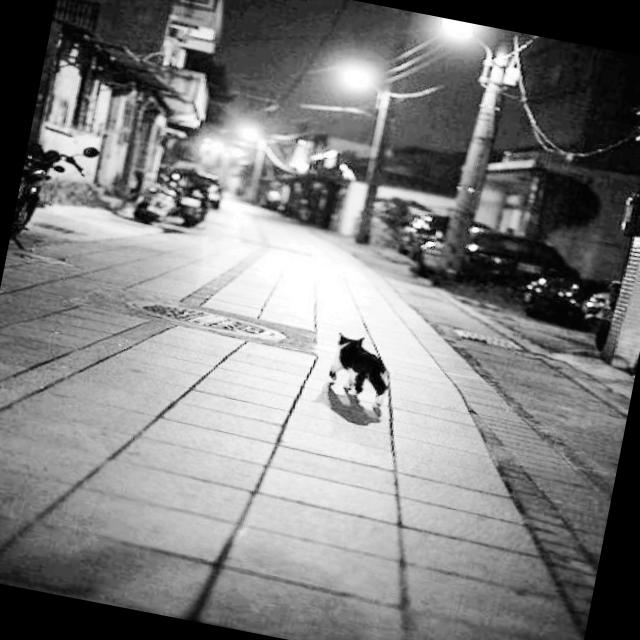Motorcycle: (113, 144, 246, 262), (7, 125, 108, 268)
